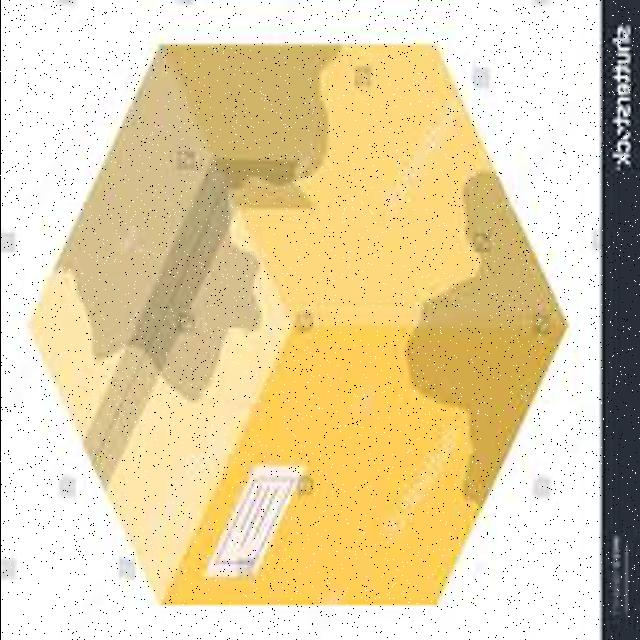defect: (26, 41, 569, 612)
